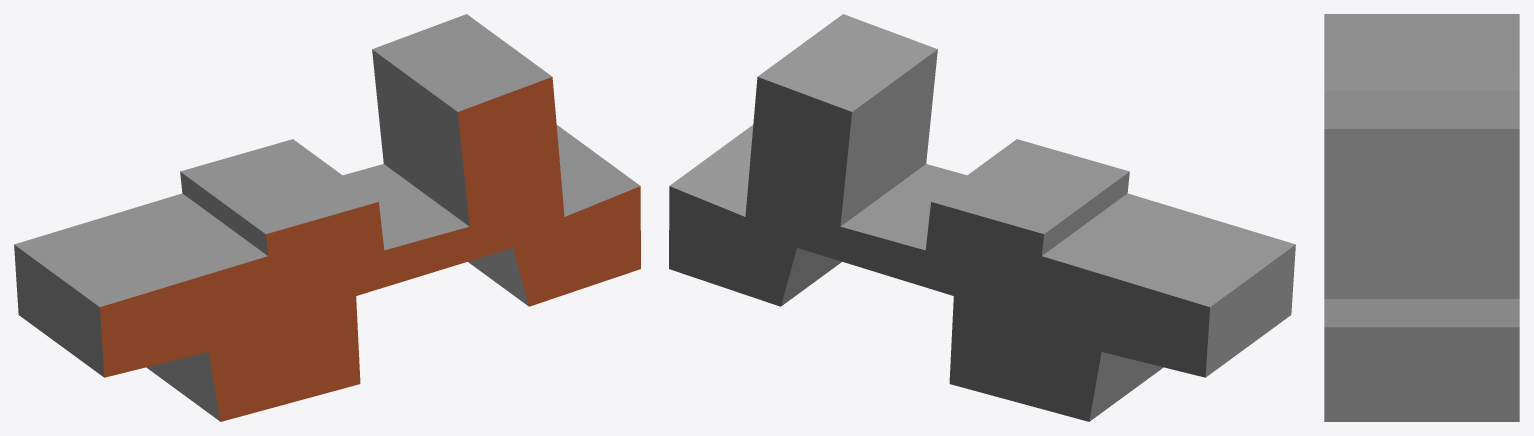
File: construction_1195_assumed_A_Casa_h6m.obj
3 renders of one model, left to right at view 1: azimuth 30°, elevation 25°; view 2: azimuth 150°, elevation 25°; view 3: azimuth 270°, elevation 25°, orthographic. The views are drawn at different scales.
Visible parts, largest first — view 1: construction_1195_assumed_A_Casa; view 2: construction_1195_assumed_A_Casa; view 3: construction_1195_assumed_A_Casa.
Boxes of the visible parts, x1,y1,x2,y2 form: construction_1195_assumed_A_Casa: (14,14,640,421); construction_1195_assumed_A_Casa: (669,14,1295,421); construction_1195_assumed_A_Casa: (1324,14,1519,421).
Size of the model in its own units: 21.85 by 10.2 by 6.
